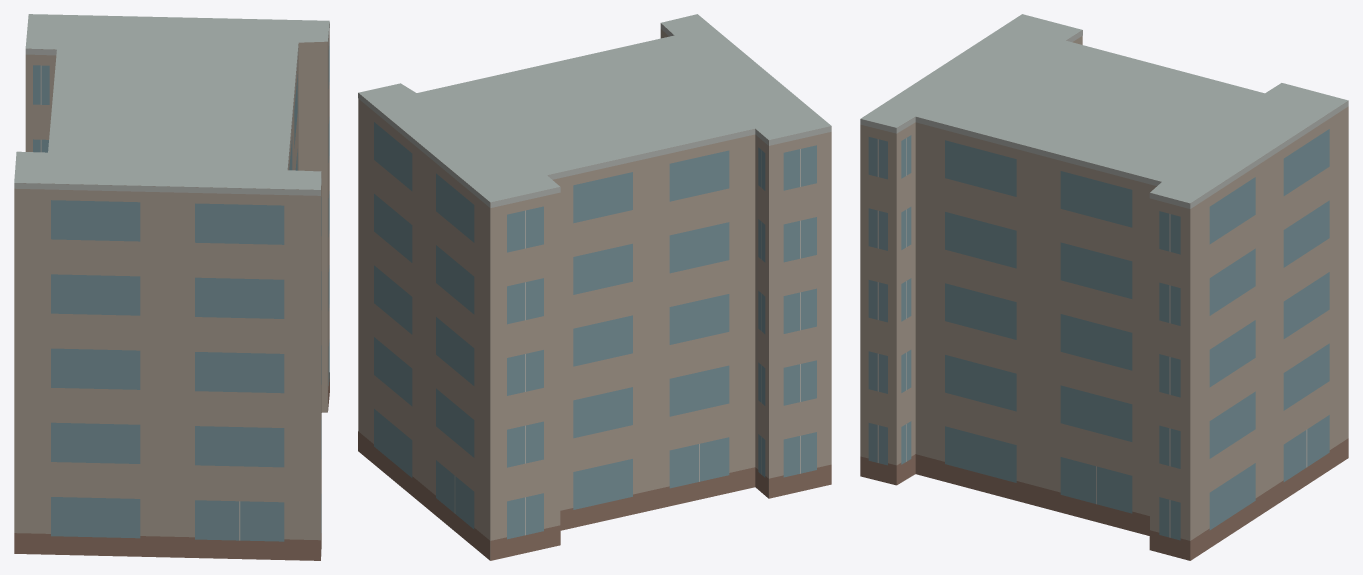
File: survey-upis-32646618.glb
3 renders of one model, left to right at view 1: azimuth 30°, elevation 25°; view 2: azimuth 150°, elevation 25°; view 3: azimuth 270°, elevation 25°, orthographic. The views are drawn at different scales.
Parts seen in each view (by area): view 1: survey-upis-32646618.tmp; view 2: survey-upis-32646618.tmp; view 3: survey-upis-32646618.tmp.
Boxes of the visible parts, <box> form: survey-upis-32646618.tmp: <box>14,14,329,560</box>; survey-upis-32646618.tmp: <box>358,14,831,560</box>; survey-upis-32646618.tmp: <box>860,14,1348,560</box>.
Size of the model in its own units: 17.34 by 15.25 by 18.89.
